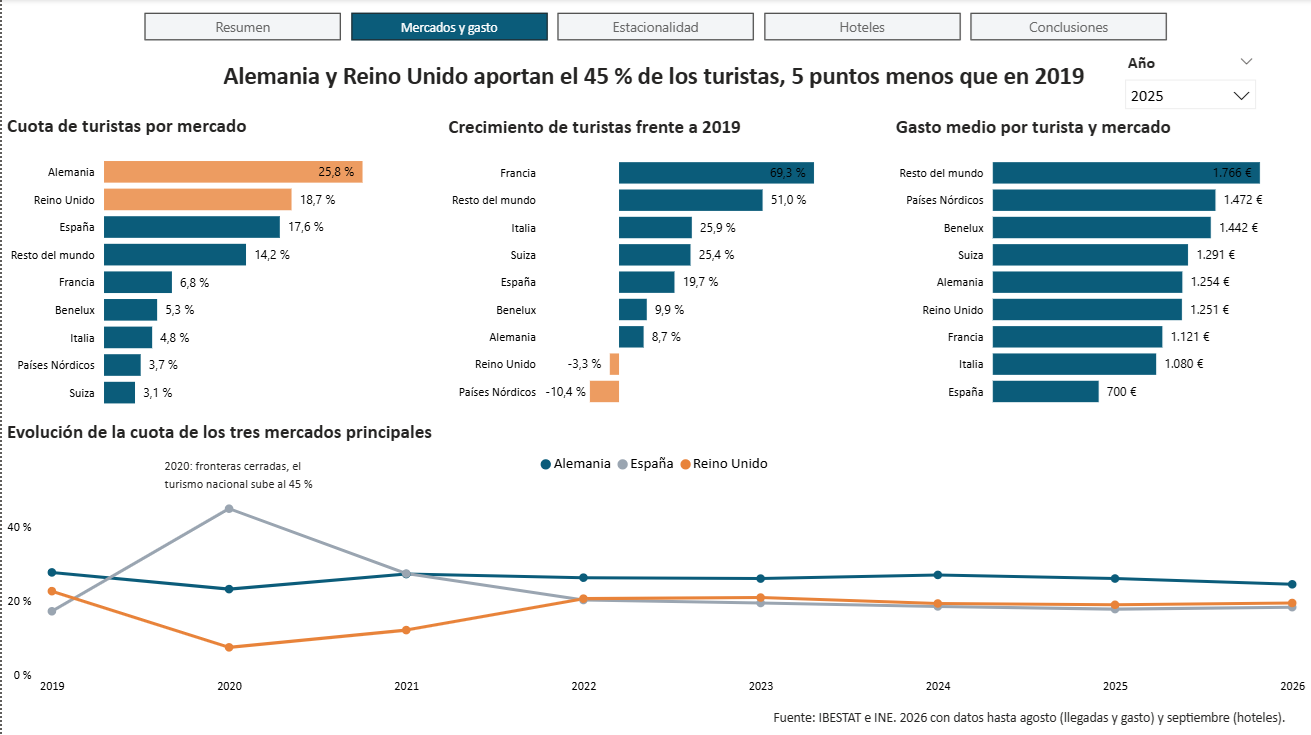

Layout of this report page (visuals, bound fields, positions):
{"tool":"powerbi","page":{"name":"Mercados y gasto","canvas":[1280,720],"ordinal":1},"visuals":[{"type":"textbox","box":[211.3,54.9,857.6,39.8],"z":0},{"type":"slicer","fields":{"Values":["DimFecha.Año"]},"box":[1088.2,48,148.2,65.9],"z":1000},{"type":"clusteredBarChart","title":"Cuota de turistas por mercado","fields":{"Category":["DimPais.País"],"Y":["Medidas.Cuota de mercado"]},"box":[0,112.3,400.7,299.6],"z":2000},{"type":"clusteredBarChart","title":"Crecimiento de turistas frente a 2019","fields":{"Category":["DimPais.País"],"Y":["Medidas.Turistas vs 2019 %"]},"box":[431.4,113.6,407.1,297],"z":3000},{"type":"clusteredBarChart","title":"Gasto medio por turista y mercado","fields":{"Category":["DimPais.País"],"Y":["Medidas.Gasto medio por turista"]},"box":[869,113.6,411,297],"z":4000},{"type":"textbox","box":[750,688.8,530,30.7],"z":5000},{"type":"lineChart","title":"Evolución de la cuota de los tres mercados principales","fields":{"Category":["DimFecha.Año"],"Y":["Medidas.Cuota de mercado"],"Series":["DimPais.País"]},"box":[0,412.4,1280.3,277],"z":6000},{"type":"textbox","box":[153.9,441.6,178.5,47.7],"z":7000},{"type":"pageNavigator","box":[140,13.7,1000.3,27.4],"z":8000}]}

Visuals, with their boxes in screenshot pixels (x1, y1, x2, y2), scaled from the page's 1280x720 canvas onto the 1311x735 screenshot:
textbox: box=[216, 56, 1095, 97]
slicer - DimFecha.Año: box=[1115, 49, 1266, 116]
"Cuota de turistas por mercado" clusteredBarChart: box=[0, 115, 410, 420]
"Crecimiento de turistas frente a 2019" clusteredBarChart: box=[442, 116, 859, 419]
"Gasto medio por turista y mercado" clusteredBarChart: box=[890, 116, 1310, 419]
textbox: box=[768, 703, 1310, 734]
"Evolución de la cuota de los tres mercados principales" lineChart: box=[0, 421, 1310, 704]
textbox: box=[158, 451, 340, 499]
pageNavigator: box=[143, 14, 1168, 42]
